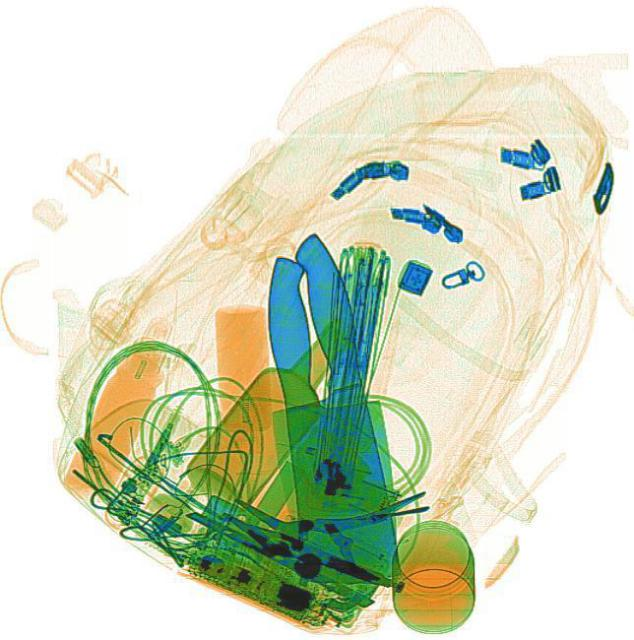Knife: (229, 230, 401, 600), (258, 245, 400, 583)
